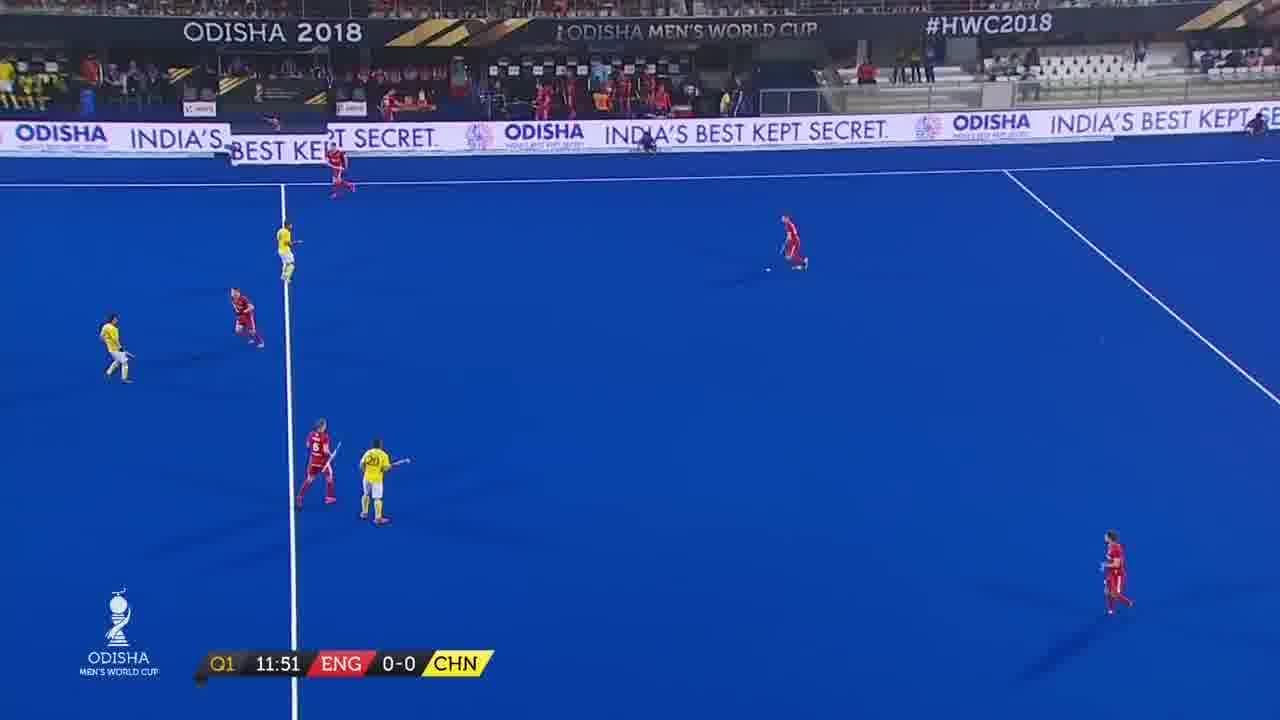ball: (766, 264, 776, 278)
